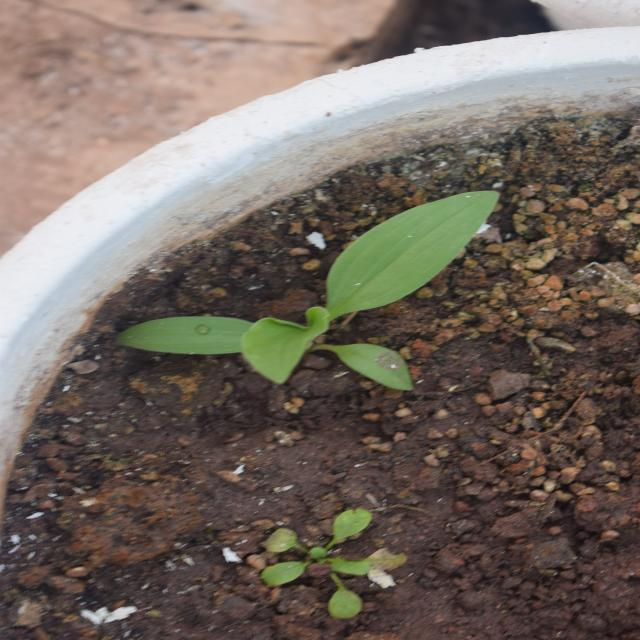Common Dayflower: (188, 137, 381, 516)
